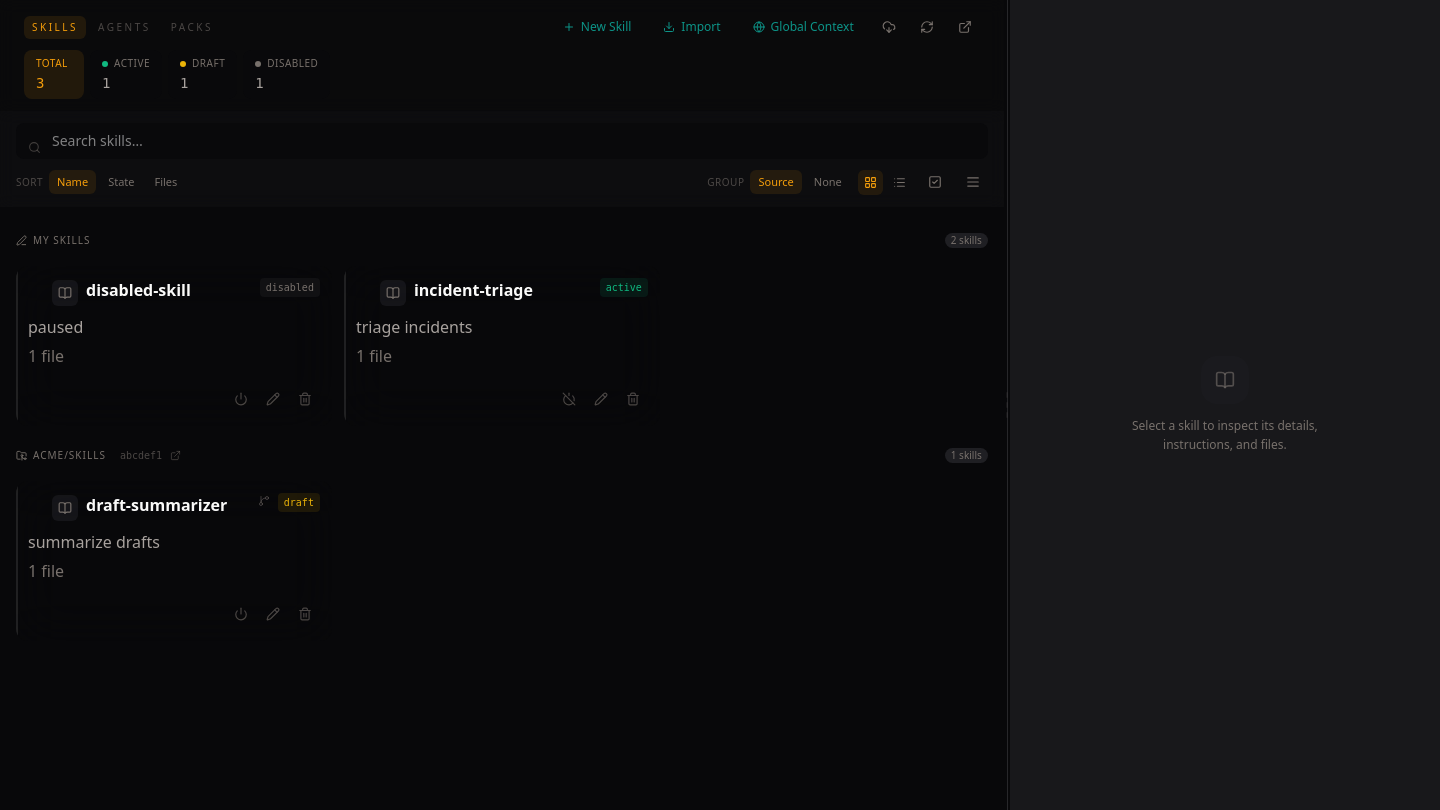
LibraryWorkspace › provenance grouping › isolates a source when its header is clicked and sets ?source=
Click the button "acme/skills" at (61,456), box [10,446,112,465]
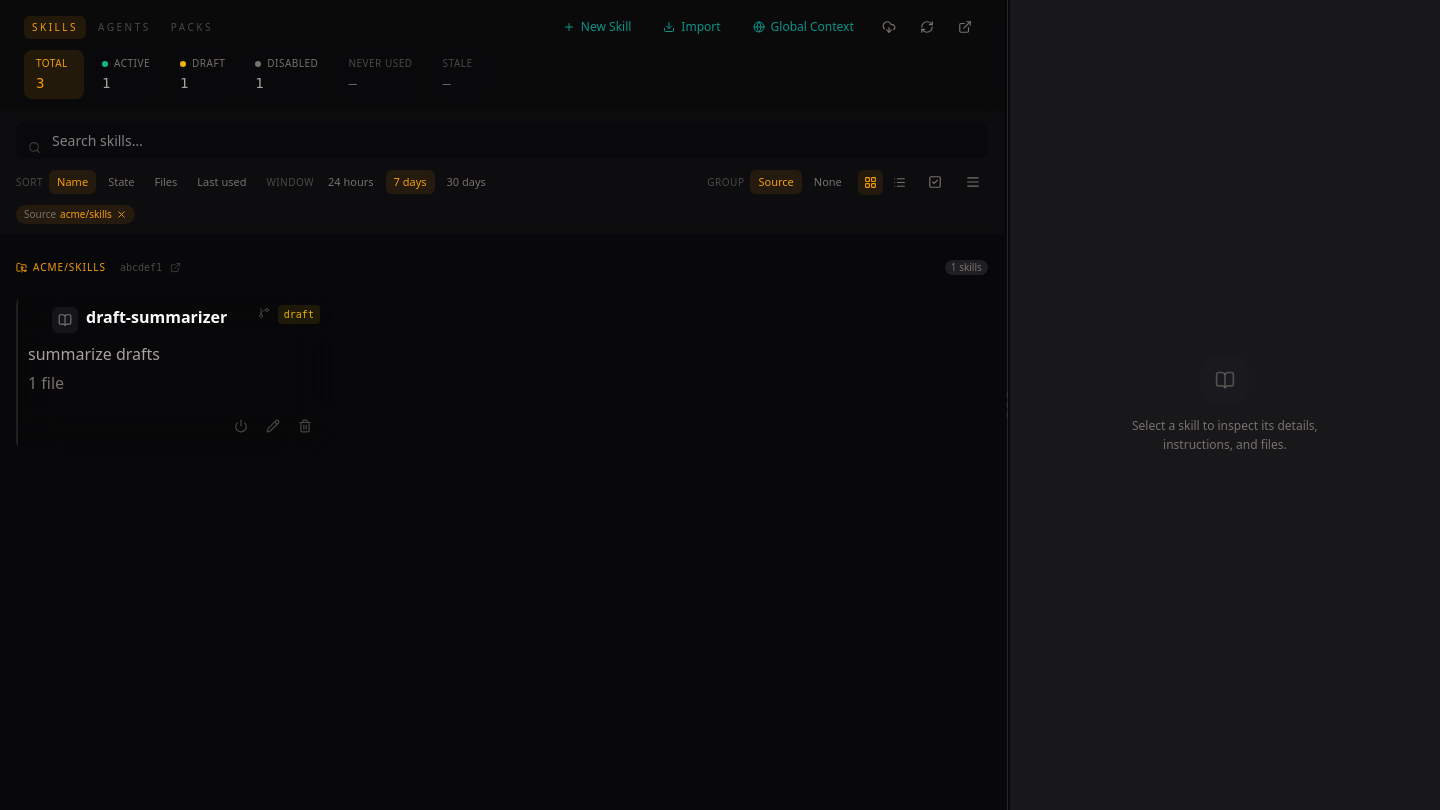
Expected: the text "draft-summarizer" is shown, [86,307,250,327]
Now the button "incident-triage" is gone
